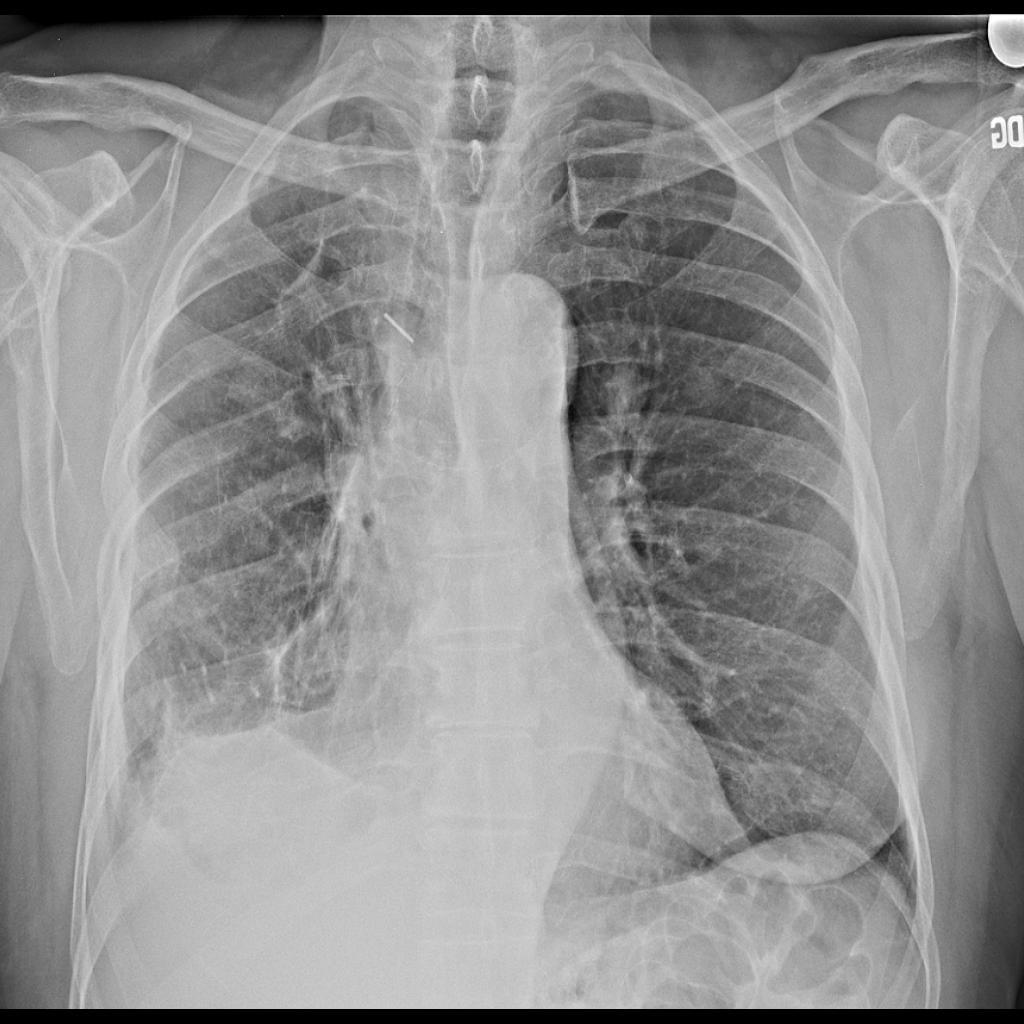Nodule: (676, 365, 745, 408)
